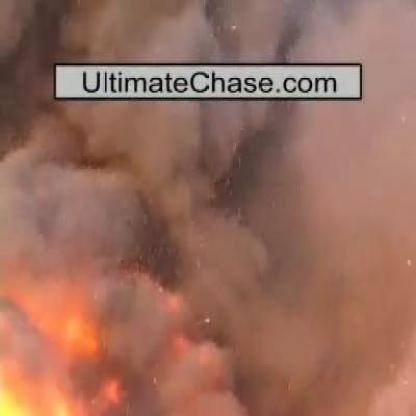-: (22, 110, 373, 328), (43, 0, 368, 60)
